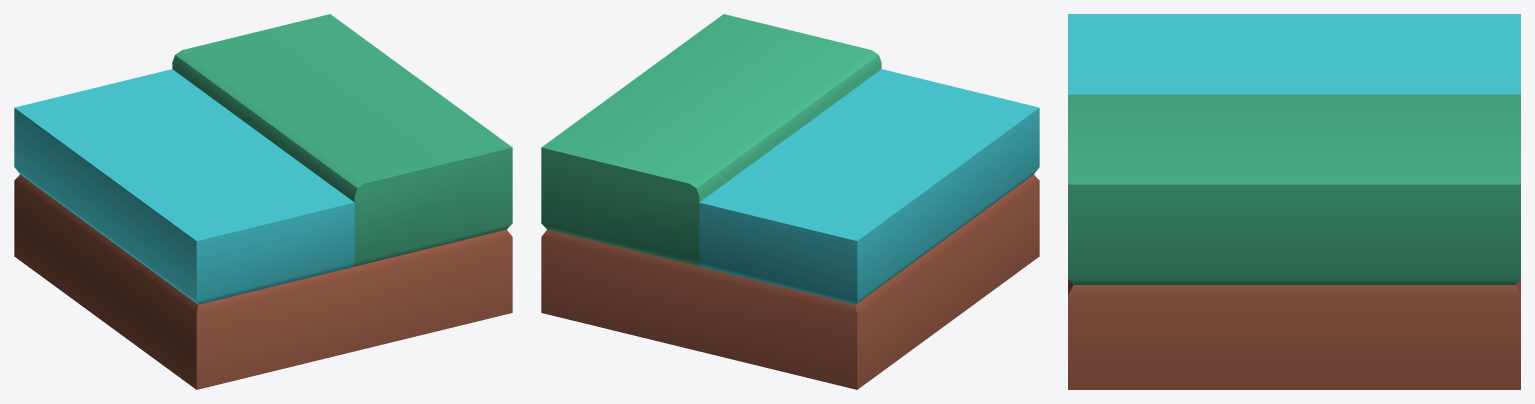
The model's file is square_forest_waterStraight.glb.
3 views of the same model, side by side, from view 1: azimuth 30°, elevation 25°; view 2: azimuth 150°, elevation 25°; view 3: azimuth 270°, elevation 25° (orthographic). The views are drawn at different scales.
Visible parts, largest first — view 1: square_forest_waterStraight; view 2: square_forest_waterStraight; view 3: square_forest_waterStraight.
Part boxes in pixels (left/top/right/bottom): square_forest_waterStraight: left=14, top=14, right=512, bottom=389; square_forest_waterStraight: left=541, top=14, right=1039, bottom=389; square_forest_waterStraight: left=1068, top=14, right=1520, bottom=389.
Bounding box in the file's own units: 3.82 × 1.91 × 3.82.
